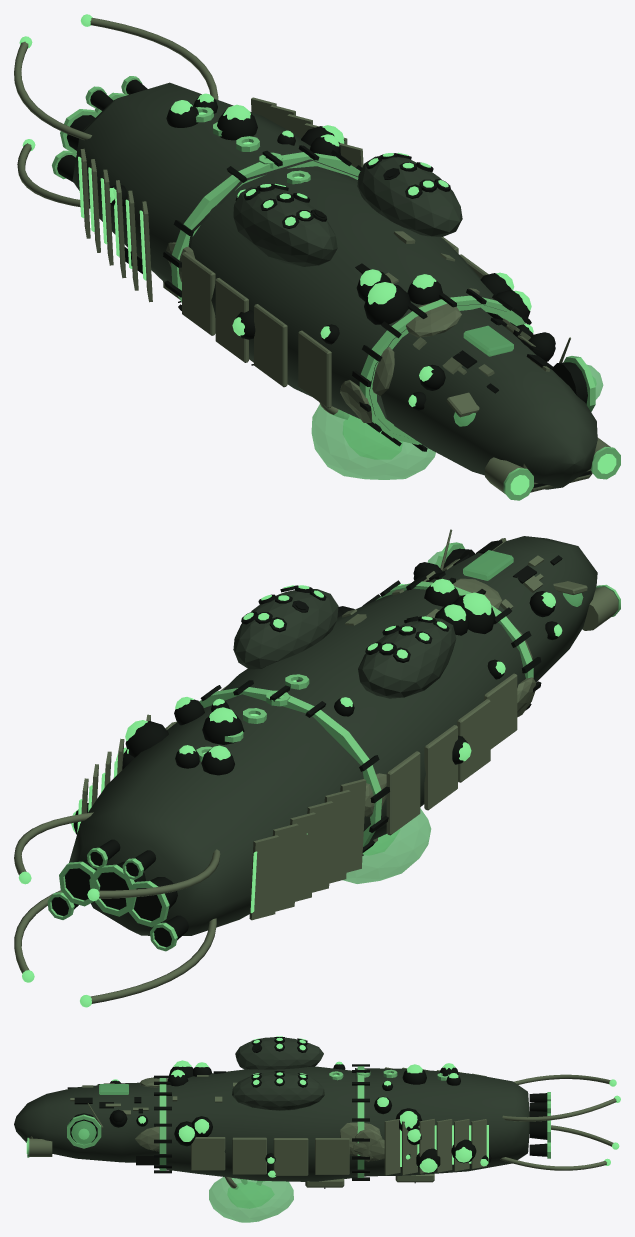
The model's file is zrost-szczepieni-hawk-4-lod0.glb.
3 views of the same model, one above another, from view 1: azimuth 30°, elevation 25°; view 2: azimuth 150°, elevation 25°; view 3: azimuth 270°, elevation 25° (orthographic). The views are drawn at different scales.
Bounding box in the file's own units: 19.18 × 21.32 × 73.41.
